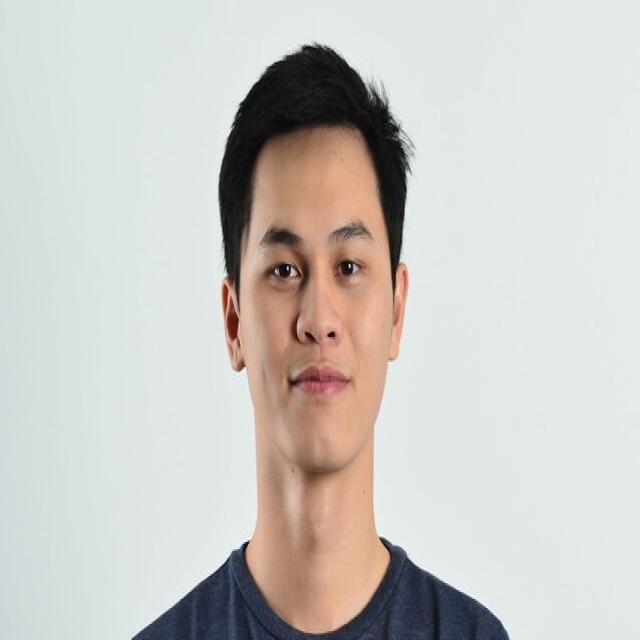Nonhelmet: (213, 37, 417, 478)
